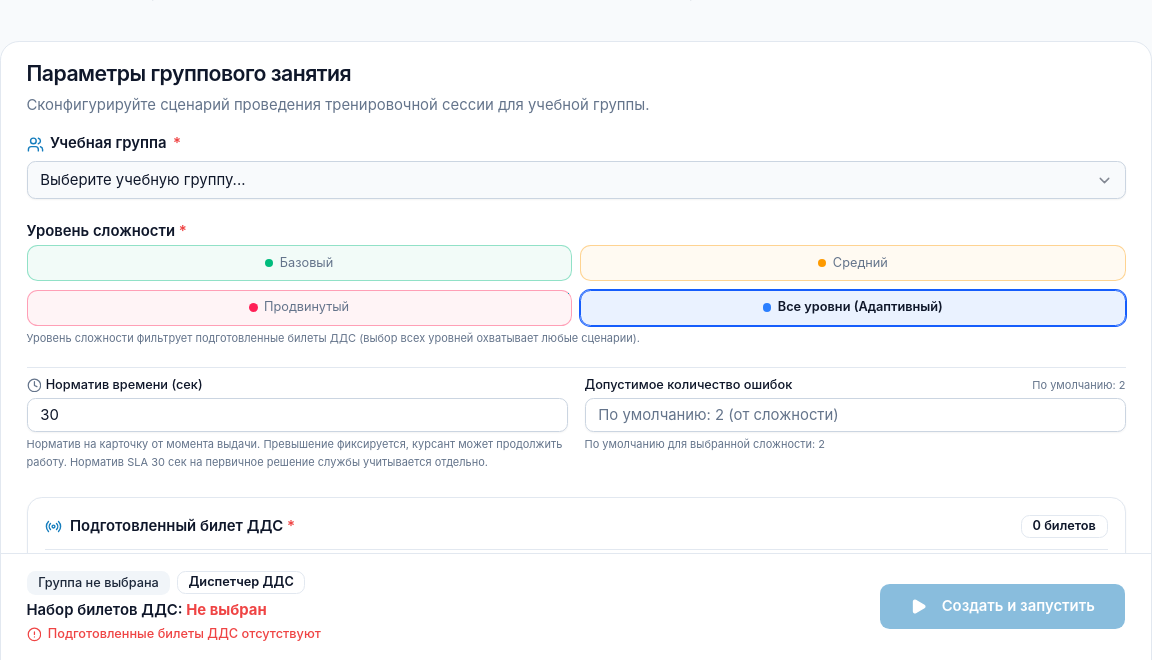
Test: ignores old response when its JSON body resolves after a newer filter response
This screenshot has width=1152, height=660.
expect the dropdown named "Фильтр категории ДДС" is shown: met, box top-left (58, 607), bottom-right (570, 641)
Select "Моя группа (2 чел.)" in the dropdown with id "group_id": (576, 180) top-left (26, 161), bottom-right (1126, 199)
(page scrolled)
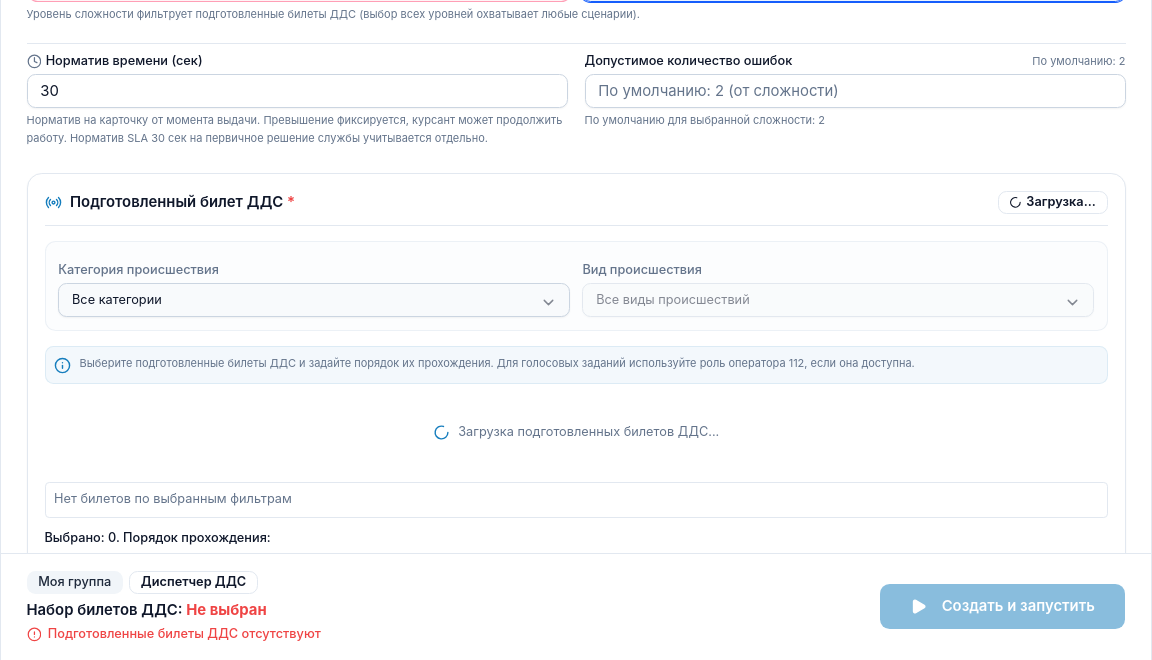
Select "ЖКХ (0)" in the dropdown named "Фильтр категории ДДС": (314, 300) top-left (58, 283), bottom-right (570, 317)
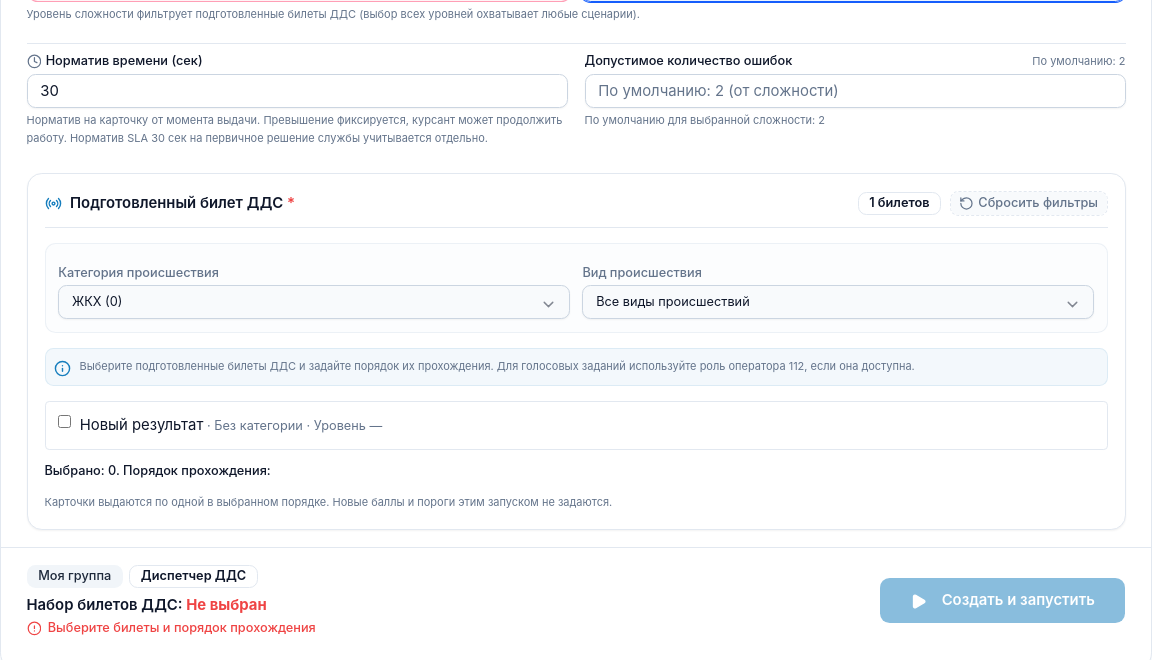
expect the text "Новый результат" is shown: met, box top-left (80, 416), bottom-right (203, 434)
